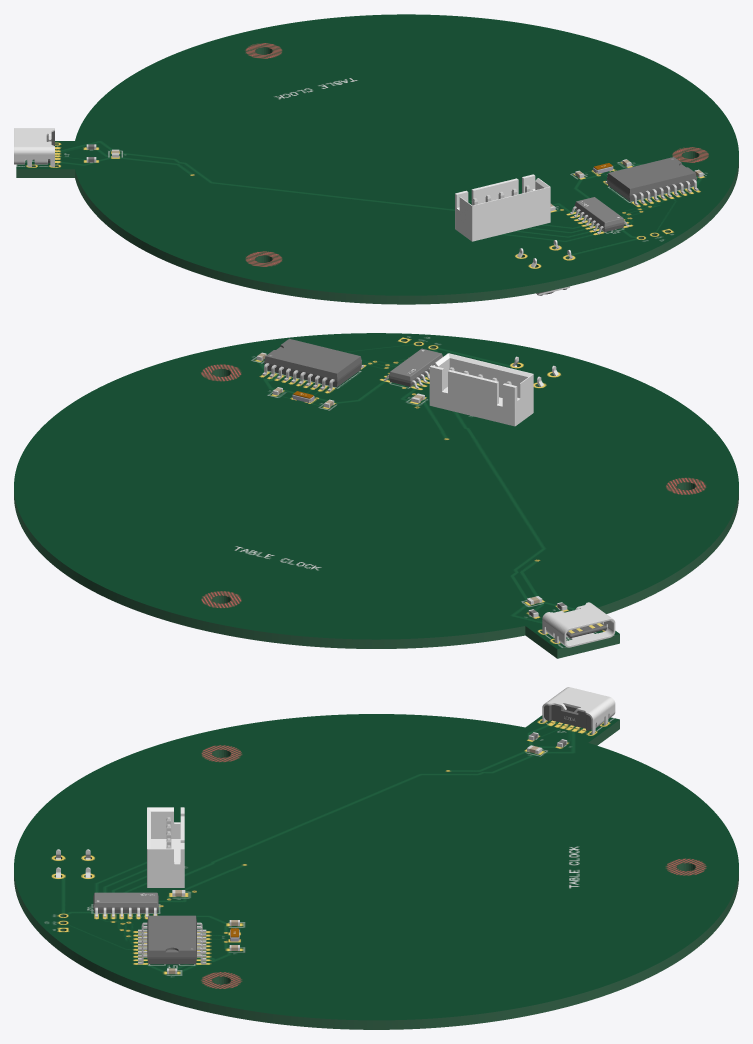
The model's file is main.glb.
3 renders of one model, top to bottom at view 1: azimuth 30°, elevation 25°; view 2: azimuth 150°, elevation 25°; view 3: azimuth 270°, elevation 25°, orthographic. The views are drawn at different scales.
Parts seen in each view (by area): view 1: Box0, J2, U1, J1, U2; view 2: Box0, J2, U1, J1, U2; view 3: Box0, U1, J2, J1, U2.
Part boxes in pixels (bbox=[...]): Box0: bbox=[16, 14, 738, 304]; J2: bbox=[455, 174, 550, 241]; U1: bbox=[605, 157, 698, 205]; J1: bbox=[14, 128, 54, 166]; U2: bbox=[570, 197, 629, 233]; Box0: bbox=[14, 333, 738, 658]; J2: bbox=[429, 353, 533, 426]; U1: bbox=[262, 338, 363, 391]; J1: bbox=[542, 602, 615, 647]; U2: bbox=[383, 348, 442, 388]; Box0: bbox=[14, 714, 738, 1029]; U1: bbox=[138, 915, 206, 964]; J2: bbox=[147, 807, 184, 887]; J1: bbox=[542, 687, 615, 734]; U2: bbox=[93, 892, 158, 917].
Bounding box in the file's own units: 114 × 12.6 × 110.
21 materials, 2 textured.
